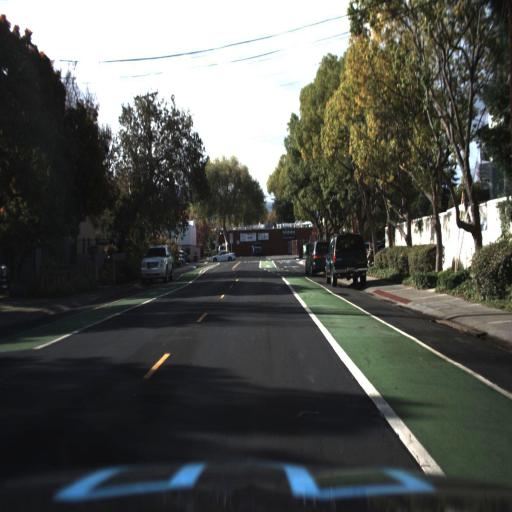car: (325, 230, 369, 289), (138, 241, 176, 284), (305, 236, 328, 277), (207, 247, 236, 266)
